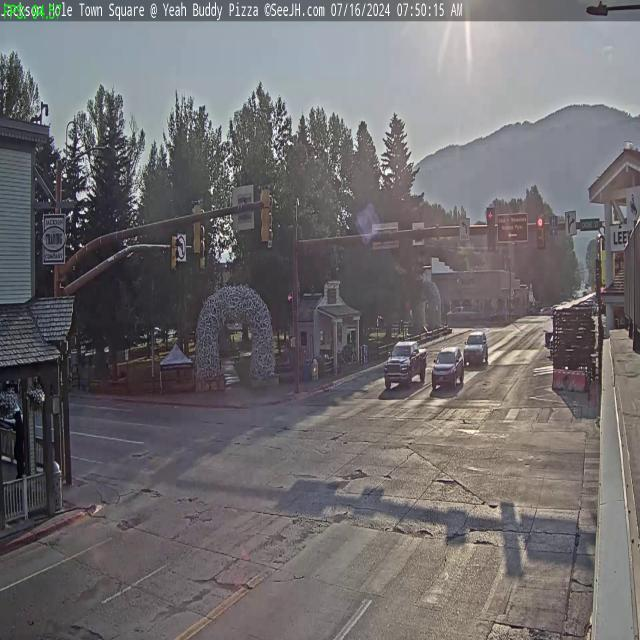pickup: (383, 339, 427, 389)
suv: (431, 344, 465, 390), (464, 328, 488, 365)
traffic light: (260, 184, 273, 243), (190, 199, 203, 256), (486, 208, 496, 254), (170, 235, 178, 272), (536, 214, 544, 249)
